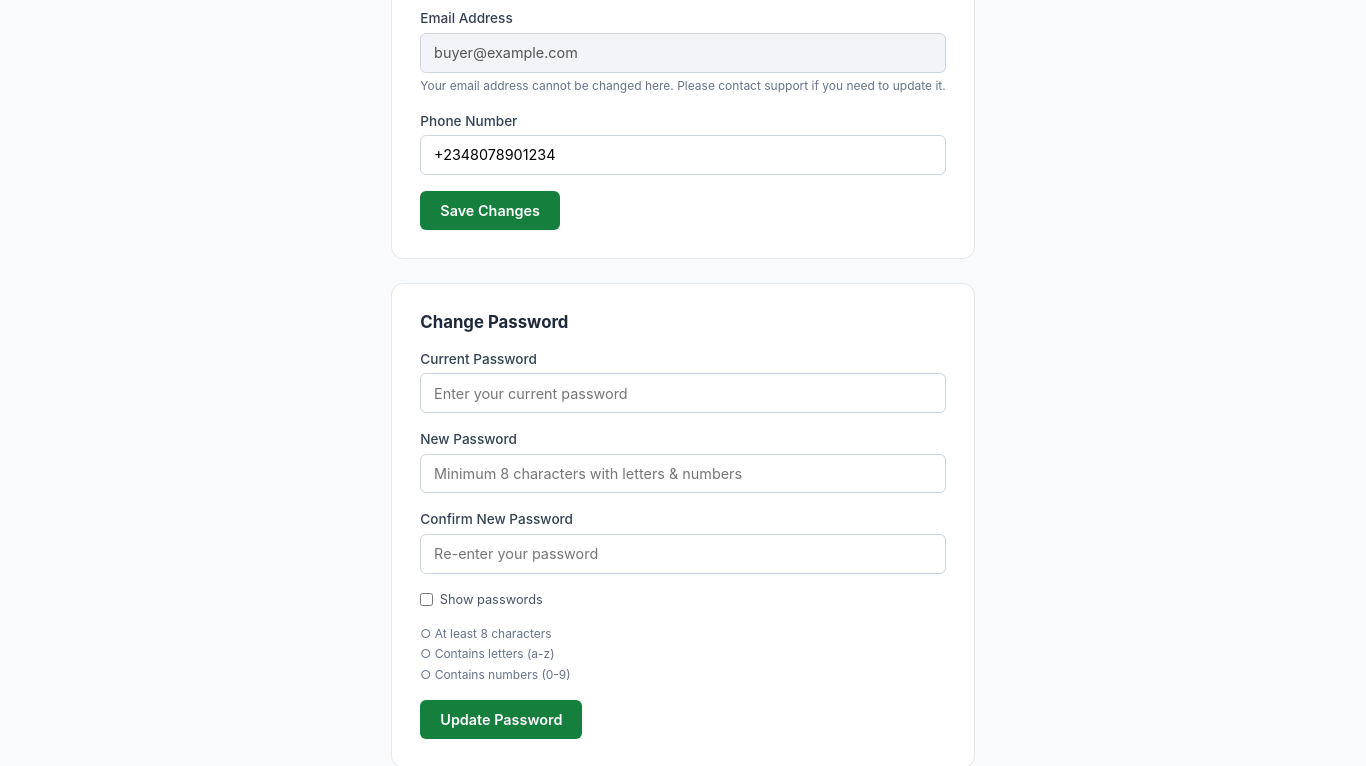
Test case: Account Profile page (FE-069 / AUTH-11) › Change password (AUTH-11 / AUTH-08) › requires the current password and a valid new password
(page scrolled)
Click the button with test id "profile-password-submit-btn": [501, 719] box [420, 700, 582, 739]
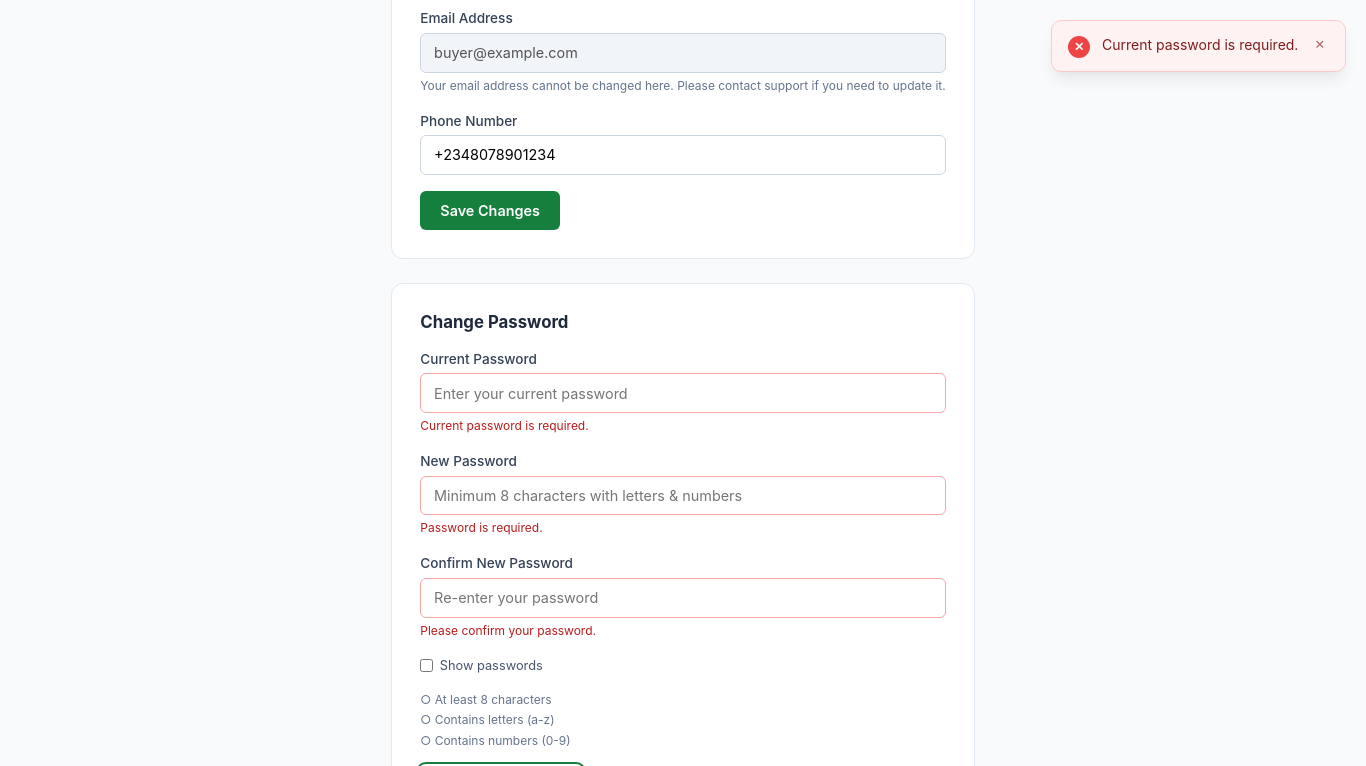
Check: the text with test id "profile-password-current-error" reads "Current password is required.", box [420, 418, 589, 433]
Check: the text with test id "profile-password-new-error" shows "Password is required", box [420, 520, 543, 535]
